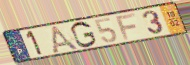1: (26, 30, 45, 56)
3: (142, 10, 165, 36)
5: (93, 16, 119, 44)
A: (50, 24, 81, 54)
F: (114, 12, 138, 41)
G: (70, 21, 98, 49)
